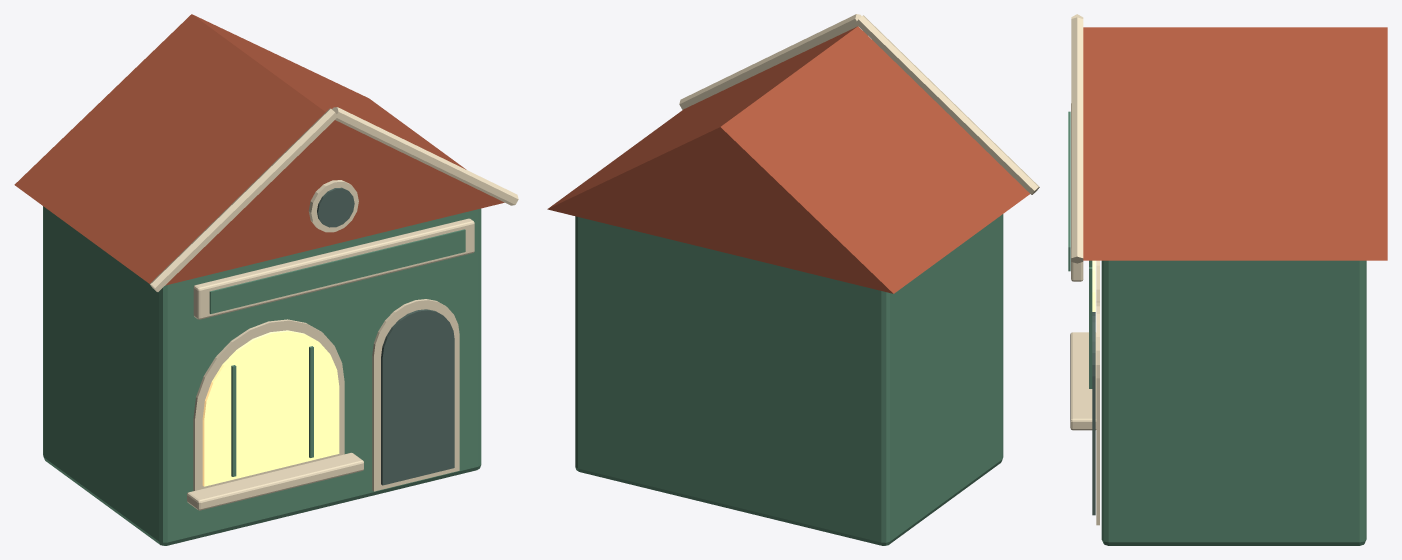
Rendered from tpe5_gabled_cafe_7m.glb.
3 renders of one model, left to right at view 1: azimuth 30°, elevation 25°; view 2: azimuth 150°, elevation 25°; view 3: azimuth 270°, elevation 25°, orthographic. The views are drawn at different scales.
Visible parts, largest first — view 1: tpe5_gabled_cafe_7m__tpe3-sage, tpe5_gabled_cafe_7m__tpe3-terracotta, tpe5_gabled_cafe_7m__tpe3-ivory, tpe5_gabled_cafe_7m__tpe3-emissive-warm, tpe5_gabled_cafe_7m__tpe3-dark-timber; view 2: tpe5_gabled_cafe_7m__tpe3-sage, tpe5_gabled_cafe_7m__tpe3-terracotta, tpe5_gabled_cafe_7m__tpe3-ivory; view 3: tpe5_gabled_cafe_7m__tpe3-sage, tpe5_gabled_cafe_7m__tpe3-terracotta, tpe5_gabled_cafe_7m__tpe3-ivory, tpe5_gabled_cafe_7m__tpe3-dark-timber.
Boxes of the visible parts, x1=… form: tpe5_gabled_cafe_7m__tpe3-sage: x1=43, y1=206, x2=481, y2=545; tpe5_gabled_cafe_7m__tpe3-terracotta: x1=14, y1=14, x2=504, y2=285; tpe5_gabled_cafe_7m__tpe3-ivory: x1=150, y1=107, x2=518, y2=510; tpe5_gabled_cafe_7m__tpe3-emissive-warm: x1=202, y1=330, x2=339, y2=486; tpe5_gabled_cafe_7m__tpe3-dark-timber: x1=317, y1=187, x2=454, y2=485; tpe5_gabled_cafe_7m__tpe3-sage: x1=575, y1=214, x2=1003, y2=545; tpe5_gabled_cafe_7m__tpe3-terracotta: x1=547, y1=26, x2=1029, y2=293; tpe5_gabled_cafe_7m__tpe3-ivory: x1=679, y1=14, x2=1039, y2=194; tpe5_gabled_cafe_7m__tpe3-sage: x1=1068, y1=111, x2=1366, y2=545; tpe5_gabled_cafe_7m__tpe3-terracotta: x1=1083, y1=27, x2=1387, y2=260; tpe5_gabled_cafe_7m__tpe3-ivory: x1=1070, y1=14, x2=1099, y2=525; tpe5_gabled_cafe_7m__tpe3-dark-timber: x1=1092, y1=312, x2=1095, y2=515.
Size of the model in its own units: 6.61 by 7.08 by 4.58.
